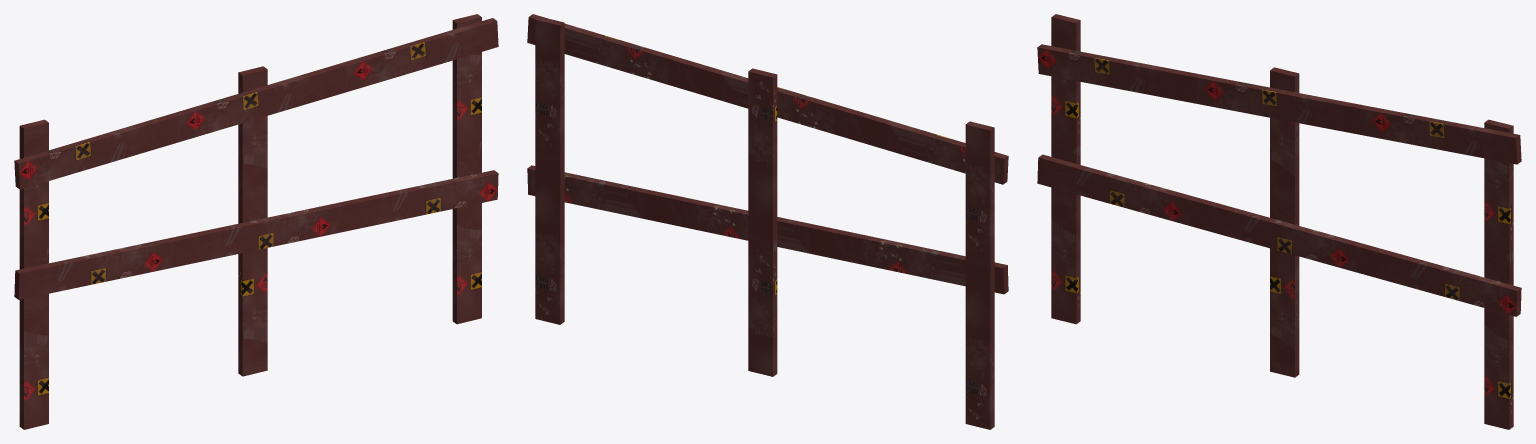
The model's file is CS_fance_inside_02.FBX.
The picture shows the model from 3 angles, left to right: view 1: azimuth 30°, elevation 25°; view 2: azimuth 150°, elevation 25°; view 3: azimuth 330°, elevation 25°; orthographic projection.
Parts seen in each view (by area): view 1: SM_fance_inside_02; view 2: SM_fance_inside_02; view 3: SM_fance_inside_02.
Part boxes in pixels (<box>): SM_fance_inside_02: <box>14,14,498,429</box>; SM_fance_inside_02: <box>527,14,1008,429</box>; SM_fance_inside_02: <box>1037,14,1521,429</box>.
Bounding box in the file's own units: 192 × 6 × 115.
